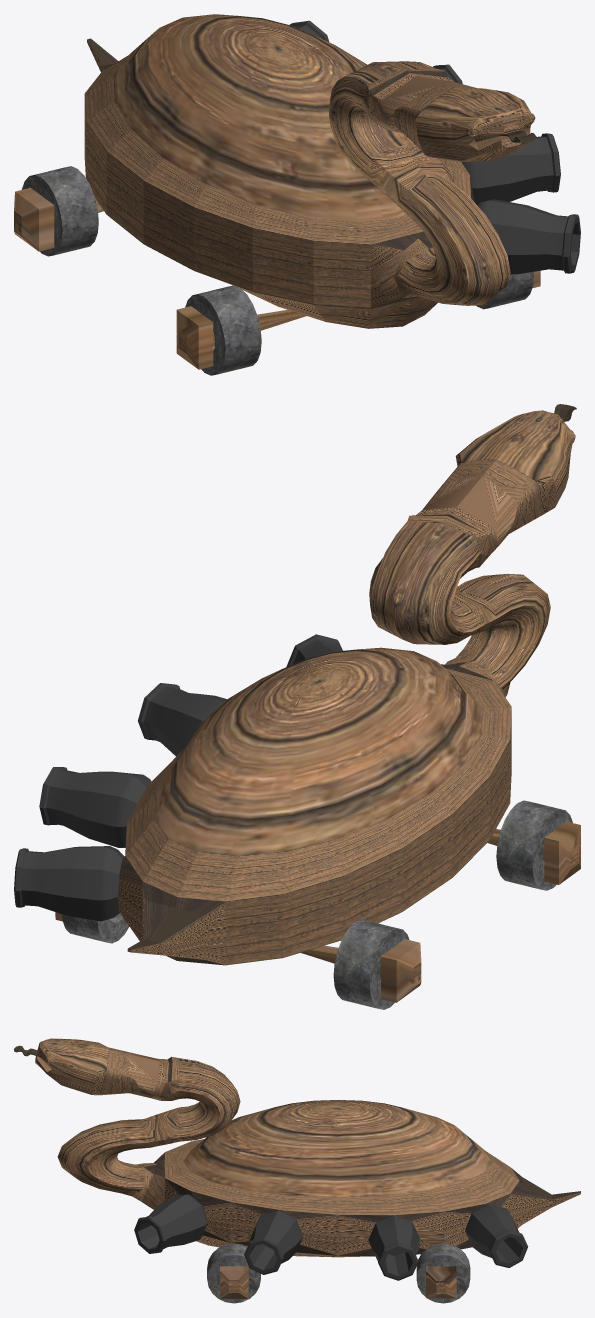
The model's file is turtle textured v2.fbx.
The picture shows the model from 3 angles, top to bottom: view 1: azimuth 30°, elevation 25°; view 2: azimuth 150°, elevation 25°; view 3: azimuth 270°, elevation 25°; orthographic projection. The views are drawn at different scales.
Visible parts, largest first — view 1: polySurface18, polySurface17, polySurface8, polySurface19, polySurface14, polySurface15; view 2: polySurface18, polySurface10, polySurface9, polySurface19, polySurface14, polySurface8, polySurface16, polySurface17; view 3: polySurface18, polySurface17, polySurface10, polySurface8, polySurface9, polySurface16, polySurface15.
Boxes of the visible parts, x1,y1,x2,y2 form: polySurface18: [14, 14, 540, 369]; polySurface17: [477, 199, 580, 274]; polySurface8: [461, 133, 560, 204]; polySurface19: [185, 285, 261, 375]; polySurface14: [21, 166, 98, 256]; polySurface15: [476, 271, 533, 309]; polySurface18: [55, 404, 580, 1002]; polySurface10: [14, 846, 124, 921]; polySurface9: [39, 767, 151, 847]; polySurface19: [496, 800, 572, 890]; polySurface14: [333, 919, 409, 1009]; polySurface8: [138, 683, 227, 756]; polySurface16: [62, 913, 129, 943]; polySurface17: [286, 634, 342, 666]; polySurface18: [14, 1038, 580, 1298]; polySurface17: [134, 1194, 207, 1253]; polySurface10: [465, 1204, 528, 1267]; polySurface8: [244, 1210, 302, 1274]; polySurface9: [368, 1215, 419, 1280]; polySurface16: [416, 1243, 470, 1303]; polySurface15: [207, 1243, 260, 1303].
Bounding box in the file's own units: 40.65 × 31.81 × 76.94.
3 materials, 2 textured.
